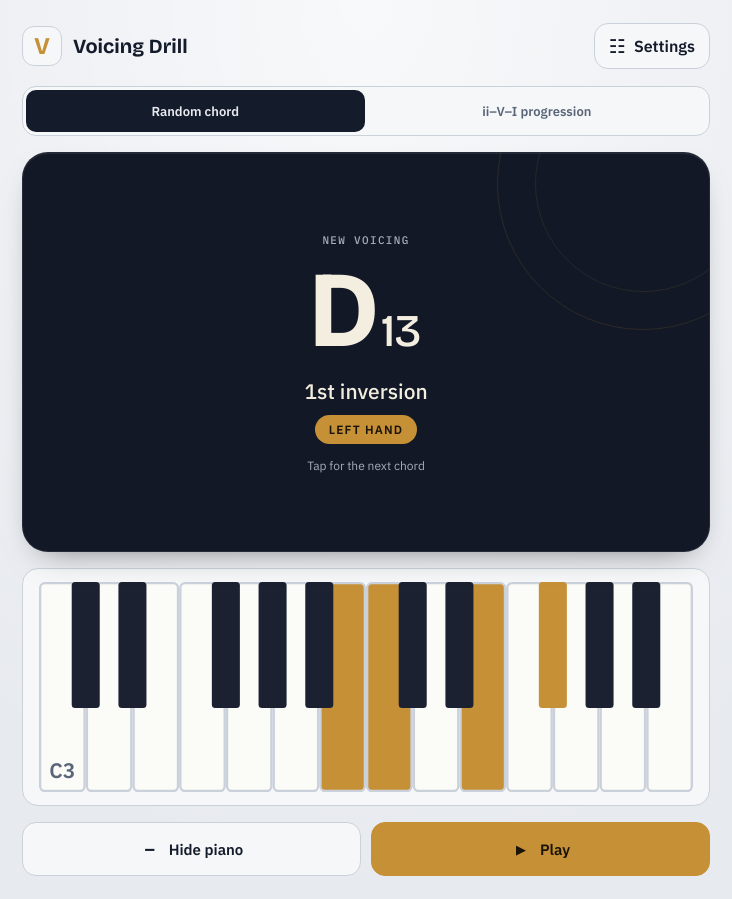
Scenario: PracticeScreen › shows and hides the piano from the practice actions
The image size is (732, 899).
Expected: the element named "Voicing keyboard" is shown, [22, 568, 710, 806]
Click the button "− Hide piano" at (192, 849), box [22, 822, 361, 876]
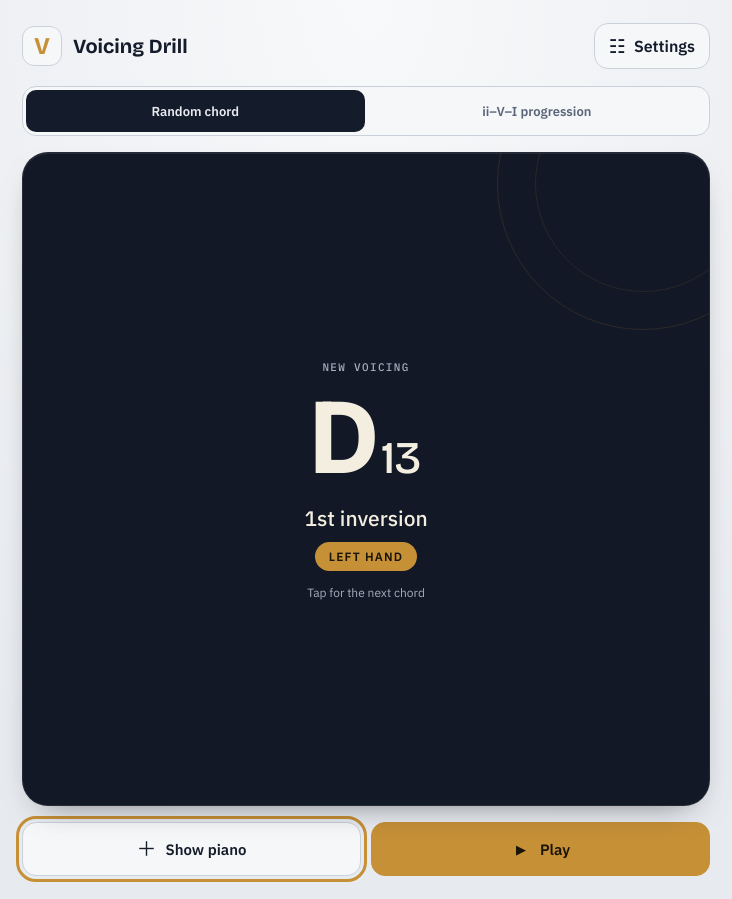
Click the button "＋ Show piano" at (192, 849), box [22, 822, 361, 876]
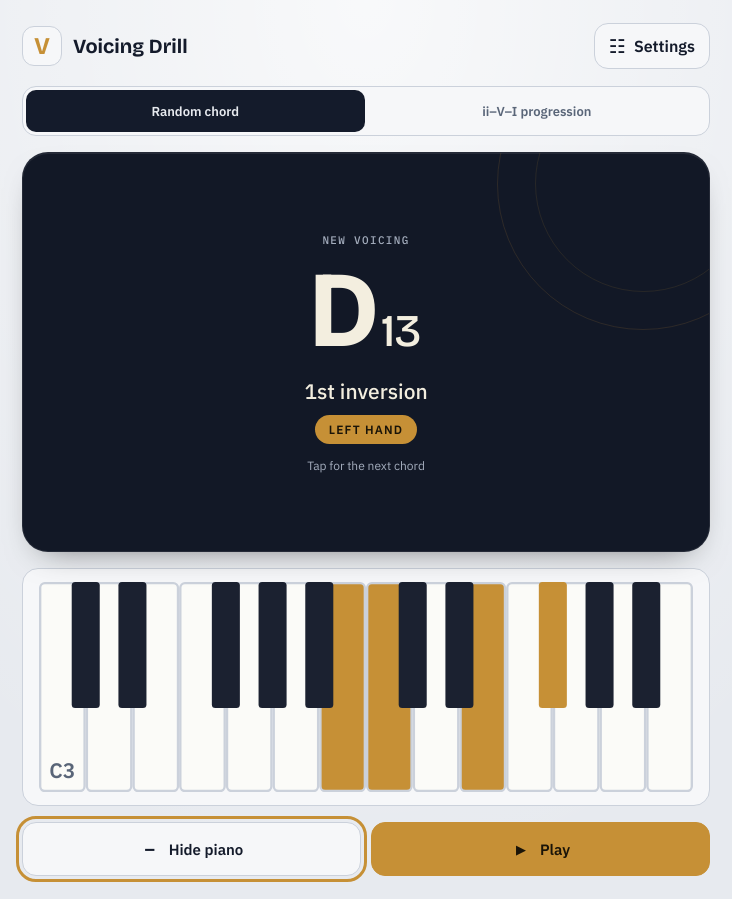
Result: the element named "Voicing keyboard" is shown at [22, 568, 710, 806]
